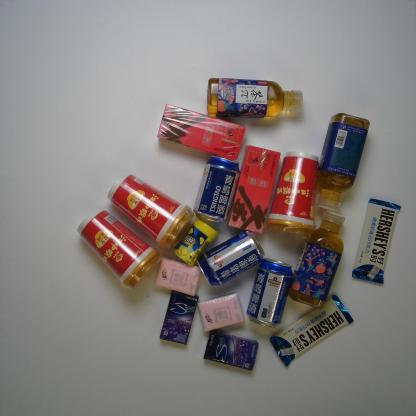Alcohol: (198, 231, 265, 287), (247, 258, 294, 328), (197, 152, 240, 224)
Chocolate: (271, 294, 354, 368), (351, 195, 402, 288)
Drink: (289, 213, 345, 311), (316, 113, 369, 212), (207, 76, 302, 120)
Gum: (203, 332, 259, 373), (172, 216, 217, 265), (159, 291, 201, 343)
Instant Drink: (106, 172, 196, 252), (75, 206, 162, 288), (158, 102, 244, 161), (227, 145, 280, 235), (269, 151, 319, 237)
Tissue: (197, 293, 244, 333), (156, 259, 201, 297)
